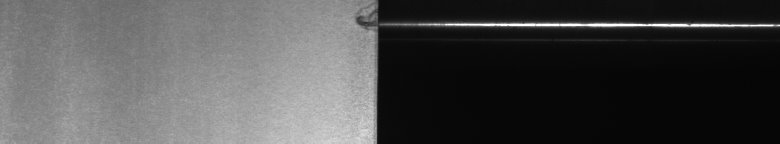hb: (348, 4, 364, 37)
